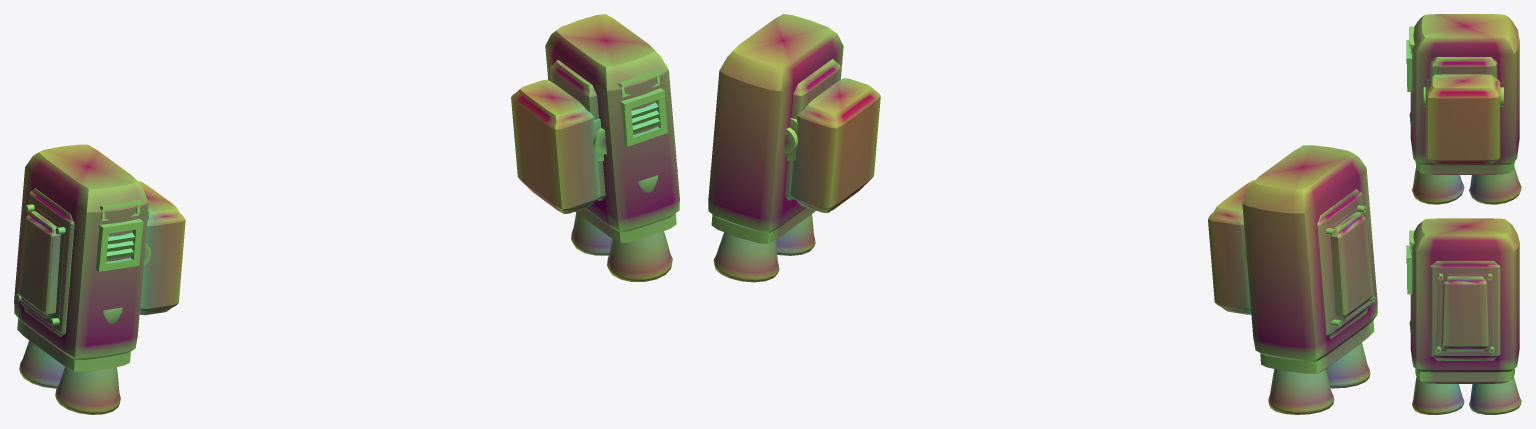
File: llm_gen_leg_thrusters_040_cf917e.glb
3 views of the same model, side by side, from view 1: azimuth 30°, elevation 25°; view 2: azimuth 150°, elevation 25°; view 3: azimuth 270°, elevation 25° (orthographic). The views are drawn at different scales.
Parts seen in each view (by area): view 1: hover_cowling_armor_1_fuselage_l, hover_cowling_armor_1_fuselage_r, adapter_calf_clamp_r, adapter_calf_clamp_l, hover_flank_panel_5_wing_white_l, hover_bell_fwd_7_vernier_bell_vernier_l, hover_bell_fwd_7_vernier_bell_vernier_r, adapter_sub_hover_flank_dark_4_adapter_dark_l, hover_core_mount_0_adapter_dark_r, adapter_sub_hover_manifold_dark_6_adapter_dark_l, adapter_sub_hover_intake_grille_2_dark_r, adapter_sub_hover_intake_grille_2_dark_l (+5 smaller); view 2: hover_cowling_armor_1_fuselage_l, hover_cowling_armor_1_fuselage_r, adapter_calf_clamp_r, hover_flank_panel_5_wing_white_l, adapter_calf_clamp_l, hover_bell_aft_8_vernier_bell_vernier_l, hover_bell_aft_8_vernier_bell_vernier_r, adapter_sub_hover_flank_dark_4_adapter_dark_l, hover_core_mount_0_adapter_dark_r, adapter_sub_hover_manifold_dark_6_adapter_dark_l, hover_bell_fwd_7_vernier_bell_vernier_l, adapter_sub_hover_manifold_dark_6_adapter_dark_r (+1 smaller); view 3: hover_cowling_armor_1_fuselage_r, hover_cowling_armor_1_fuselage_l, adapter_calf_clamp_l, hover_flank_panel_5_wing_white_r, adapter_sub_hover_flank_dark_4_adapter_dark_r, hover_bell_aft_8_vernier_bell_vernier_r, hover_bell_fwd_7_vernier_bell_vernier_r, hover_bell_aft_8_vernier_bell_vernier_l, hover_bell_fwd_7_vernier_bell_vernier_l, hover_core_mount_0_adapter_dark_l, adapter_sub_hover_manifold_dark_6_adapter_dark_r, adapter_sub_hover_manifold_dark_6_adapter_dark_l (+4 smaller).
Boxes of the visible parts, x1,y1,x2,y2 form: hover_cowling_armor_1_fuselage_l: (14,144,148,359); hover_cowling_armor_1_fuselage_r: (545,14,679,231); adapter_calf_clamp_r: (511,79,603,213); adapter_calf_clamp_l: (138,181,185,315); hover_flank_panel_5_wing_white_l: (16,204,65,325); hover_bell_fwd_7_vernier_bell_vernier_l: (55,367,120,414); hover_bell_fwd_7_vernier_bell_vernier_r: (607,231,672,281); adapter_sub_hover_flank_dark_4_adapter_dark_l: (20,188,74,337); hover_core_mount_0_adapter_dark_r: (549,60,605,200); adapter_sub_hover_manifold_dark_6_adapter_dark_l: (17,319,130,371); adapter_sub_hover_intake_grille_2_dark_r: (620,88,667,146); adapter_sub_hover_intake_grille_2_dark_l: (95,219,143,271); hover_cowling_armor_1_fuselage_l: (1242,145,1377,361); hover_cowling_armor_1_fuselage_r: (708,14,843,233); adapter_calf_clamp_r: (786,78,880,213); hover_flank_panel_5_wing_white_l: (1325,205,1375,327); adapter_calf_clamp_l: (1208,180,1254,314); hover_bell_aft_8_vernier_bell_vernier_l: (1268,369,1334,414); hover_bell_aft_8_vernier_bell_vernier_r: (713,232,779,282); adapter_sub_hover_flank_dark_4_adapter_dark_l: (1317,189,1371,338); hover_core_mount_0_adapter_dark_r: (785,59,841,200); adapter_sub_hover_manifold_dark_6_adapter_dark_l: (1260,320,1374,373); hover_bell_fwd_7_vernier_bell_vernier_l: (1326,342,1370,388); adapter_sub_hover_manifold_dark_6_adapter_dark_r: (711,207,815,244); hover_cowling_armor_1_fuselage_r: (1410,218,1519,372); hover_cowling_armor_1_fuselage_l: (1410,14,1519,165); adapter_calf_clamp_l: (1425,74,1500,164); hover_flank_panel_5_wing_white_r: (1435,273,1494,353); adapter_sub_hover_flank_dark_4_adapter_dark_r: (1430,261,1500,360); hover_bell_aft_8_vernier_bell_vernier_r: (1469,377,1521,414); hover_bell_fwd_7_vernier_bell_vernier_r: (1412,377,1464,414); hover_bell_aft_8_vernier_bell_vernier_l: (1469,166,1521,204); hover_bell_fwd_7_vernier_bell_vernier_l: (1412,166,1464,204); hover_core_mount_0_adapter_dark_l: (1430,57,1497,78); adapter_sub_hover_manifold_dark_6_adapter_dark_r: (1415,368,1514,383); adapter_sub_hover_manifold_dark_6_adapter_dark_l: (1415,161,1514,174).
Bounding box in the file's own units: 85.16 × 28.74 × 16.96.
